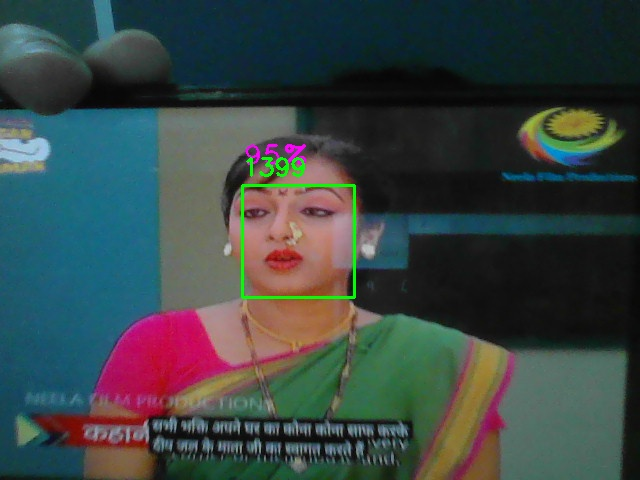fake: (242, 185, 355, 298)
